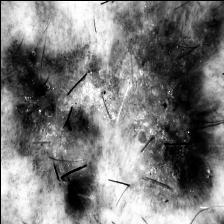Potentially Malignant Skin Tumors: (59, 172, 84, 206), (24, 75, 46, 109)
